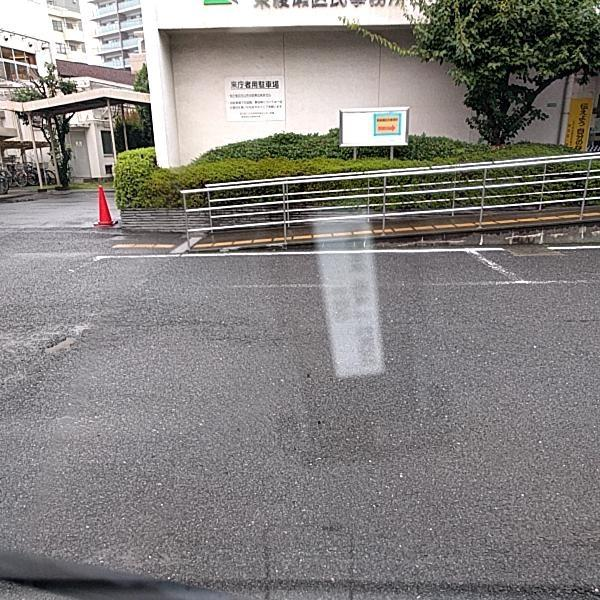pothole: (43, 330, 77, 354)
